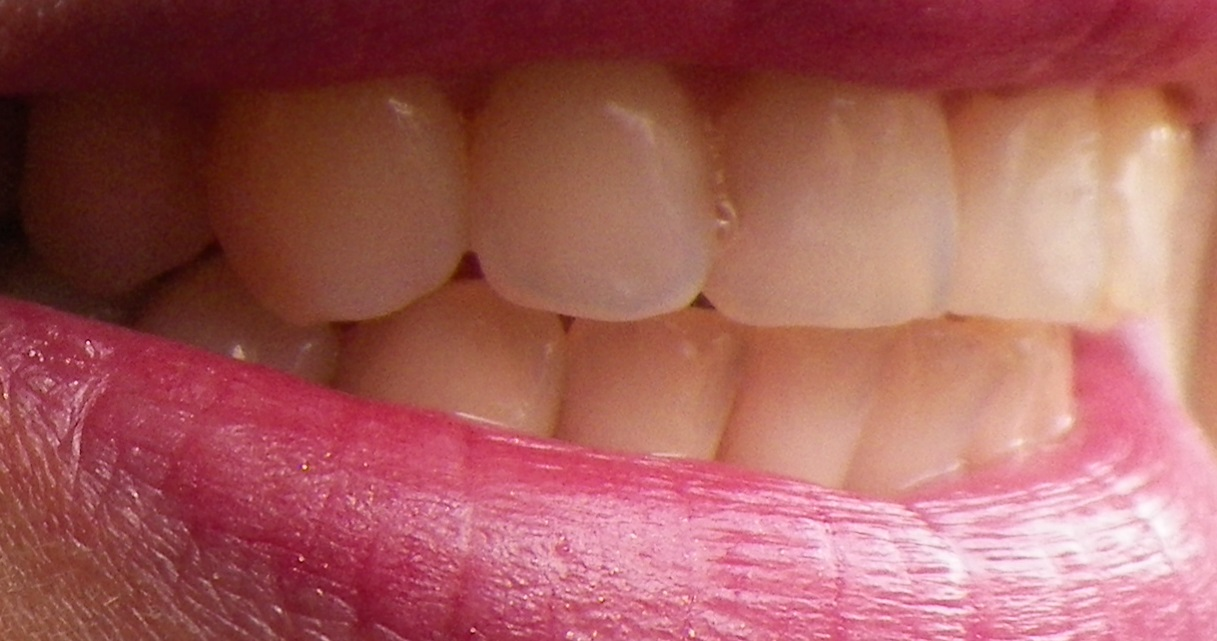boca: (25, 76, 1185, 473)
